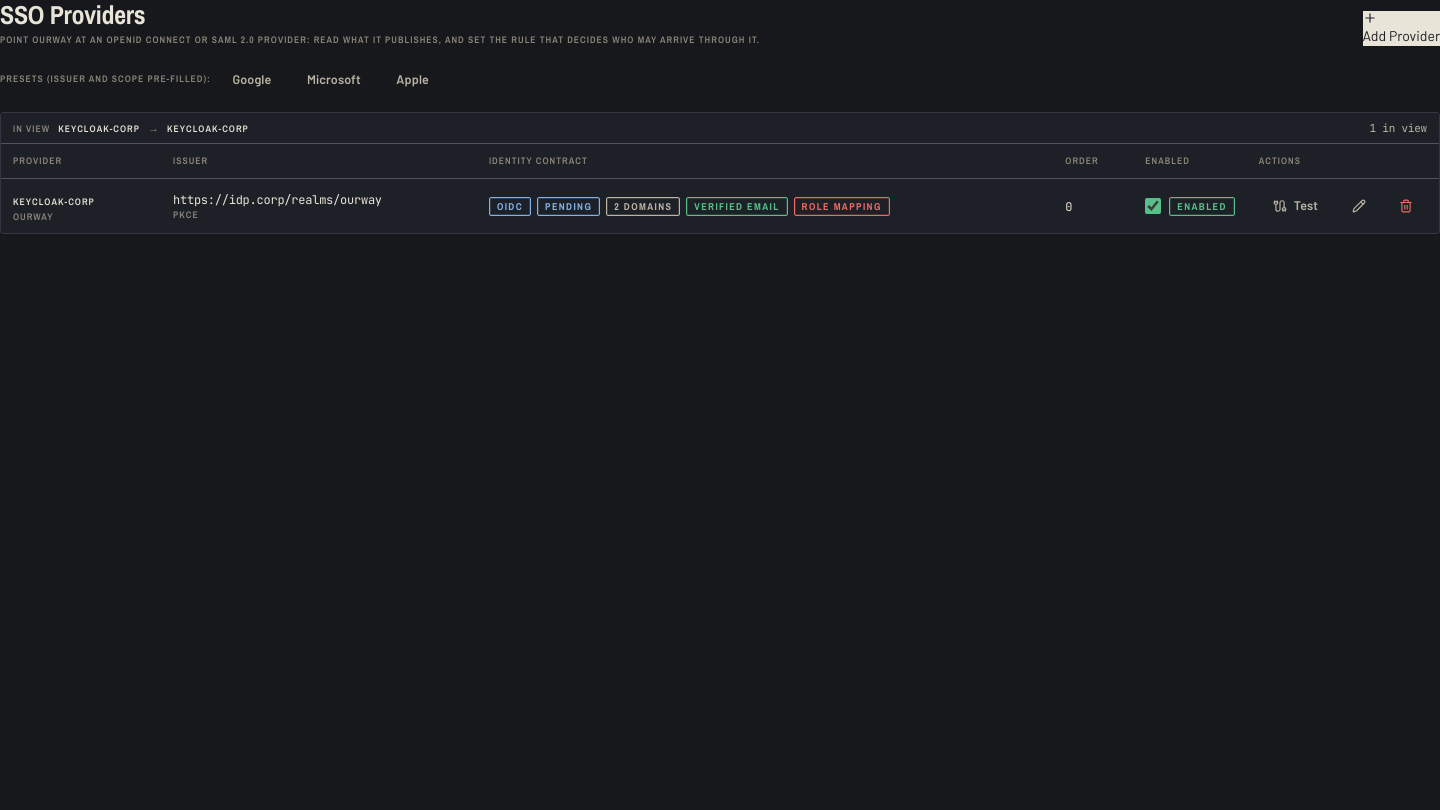
Test: SSO provider ledger (2.4-4) › prefills a preset and leaves room for any other IdP
Step 1. Click the button "Google" → (252, 79), box left=219, top=62, right=285, bottom=96
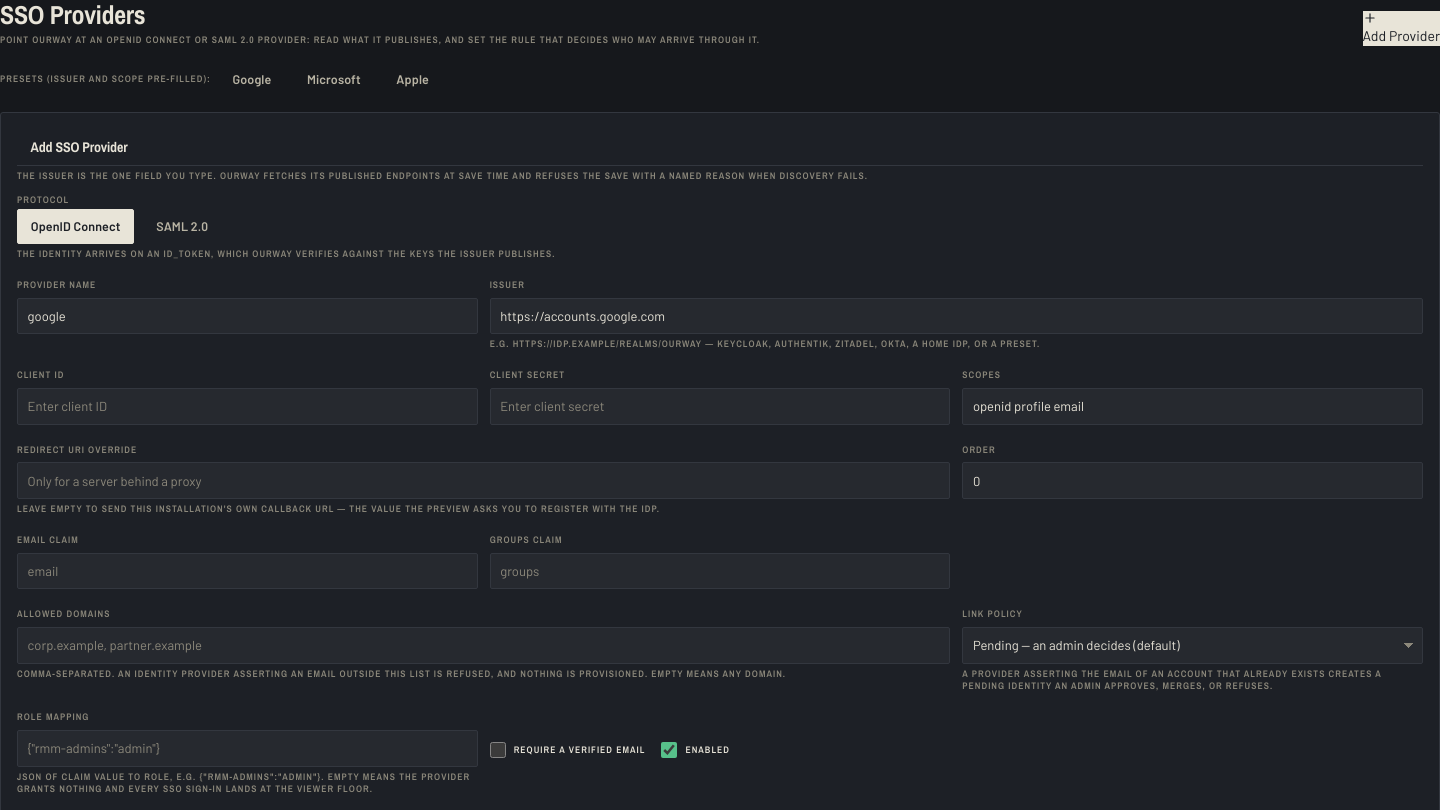
Now the field labelled "Issuer" holds "https://accounts.google.com", box left=490, top=298, right=1423, bottom=334
Now the field labelled "Provider name" is enabled, box left=17, top=298, right=478, bottom=334
